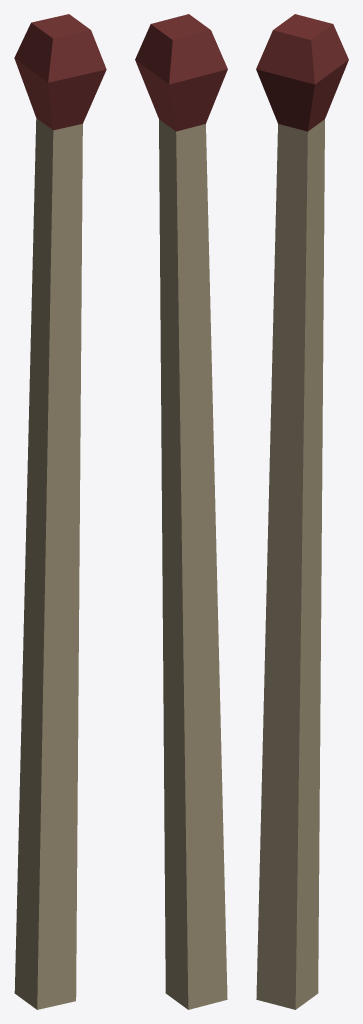
The model's file is match-f5d2f29c73.glb.
3 views of the same model, side by side, from view 1: azimuth 30°, elevation 25°; view 2: azimuth 210°, elevation 25°; view 3: azimuth 330°, elevation 25° (orthographic).
Parts seen in each view (by area): view 1: Match.obj; view 2: Match.obj; view 3: Match.obj.
Boxes of the visible parts, box(x1,y1,x2,y2) form: Match.obj: box(14, 14, 106, 1009); Match.obj: box(135, 14, 227, 1009); Match.obj: box(256, 14, 348, 1009).
Bounding box in the file's own units: 0.0414 × 0.5996 × 0.038.
